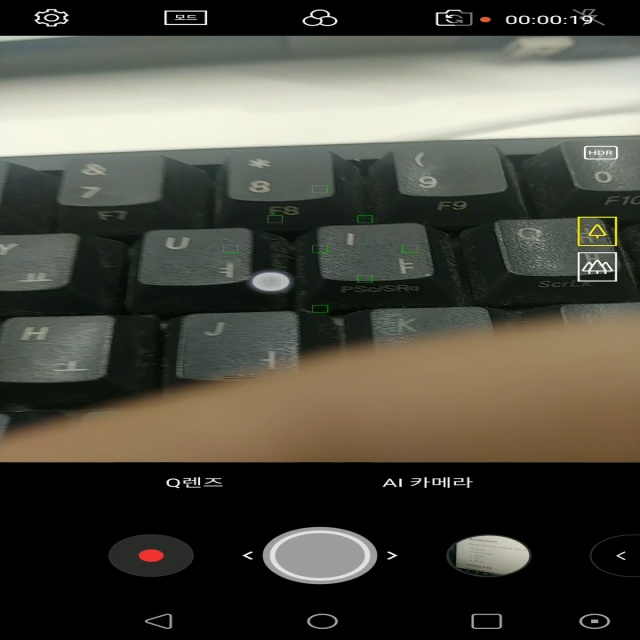Cursor: (249, 271, 294, 293)
